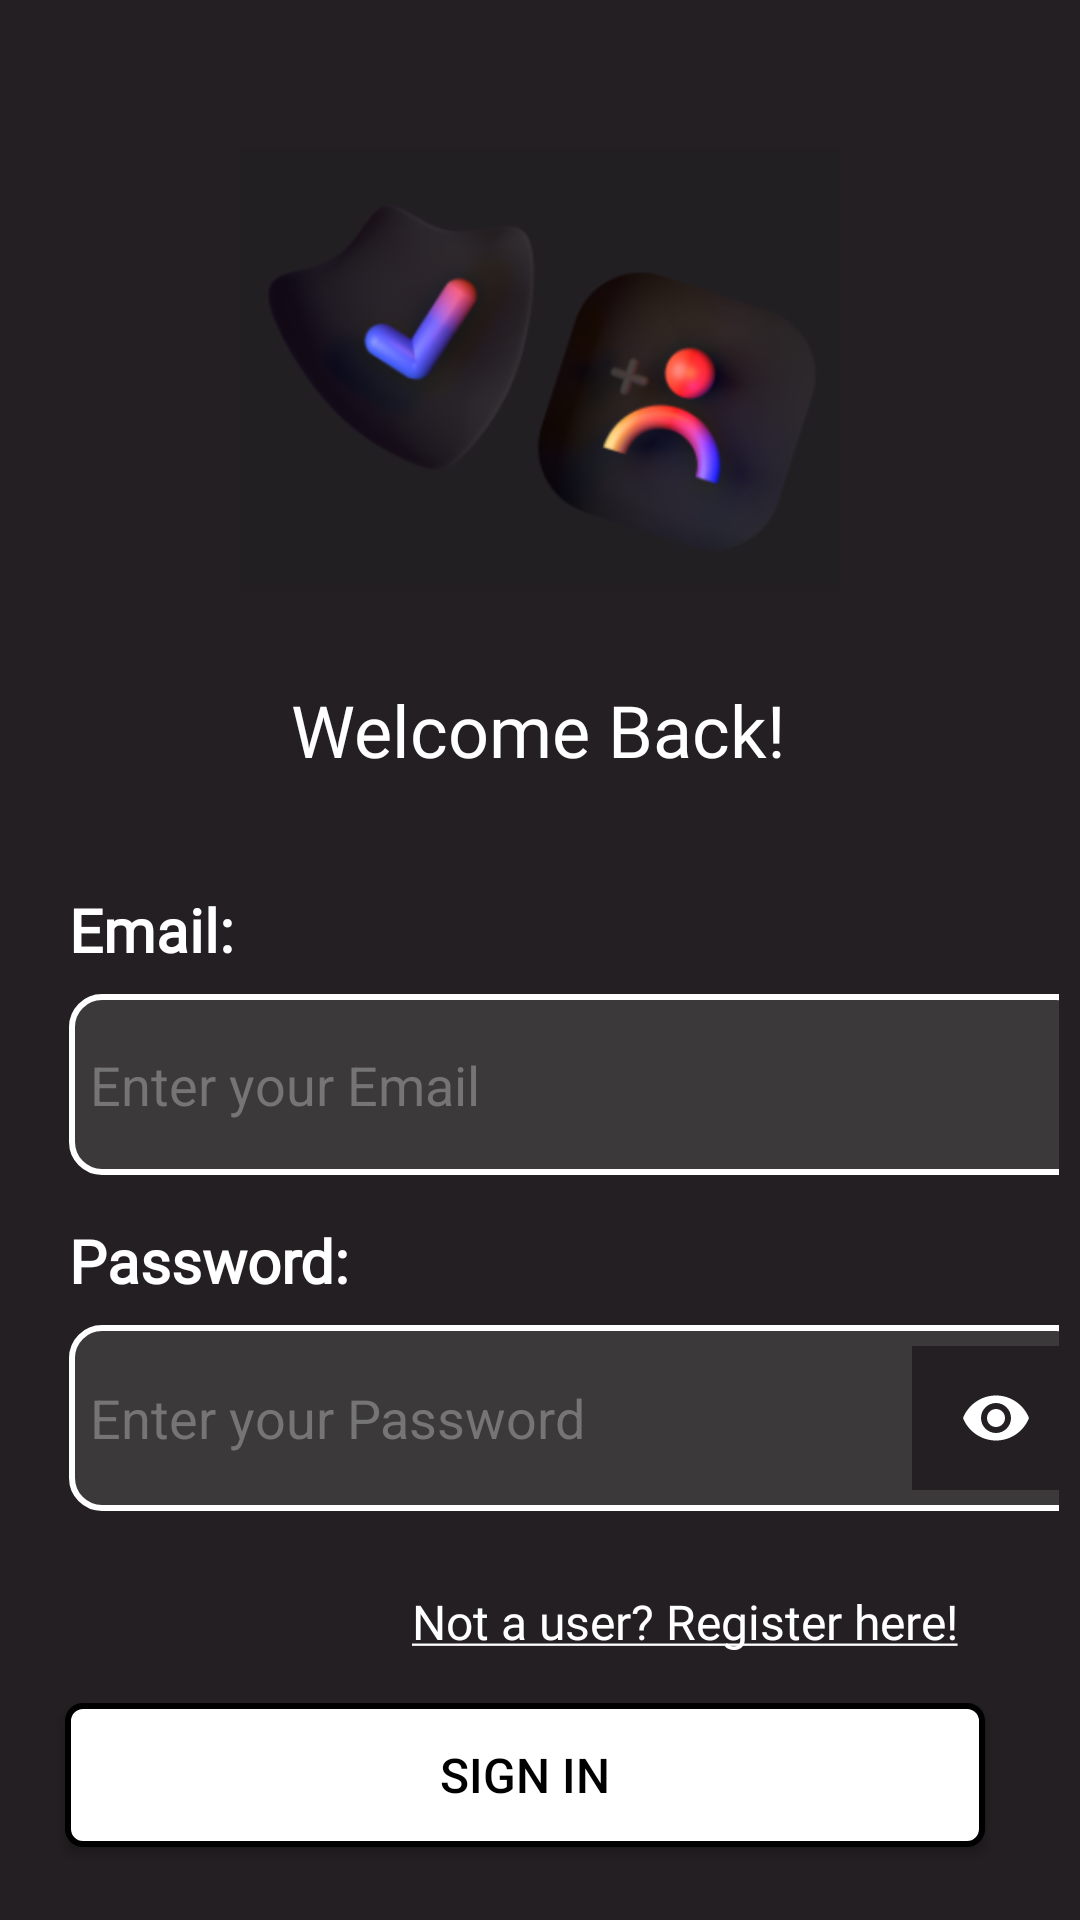

Screen size 1080x1920. Icon name, then its box in pixels as (x1, y1, x2, y2):
app welcome icon: (364, 276, 722, 496)
